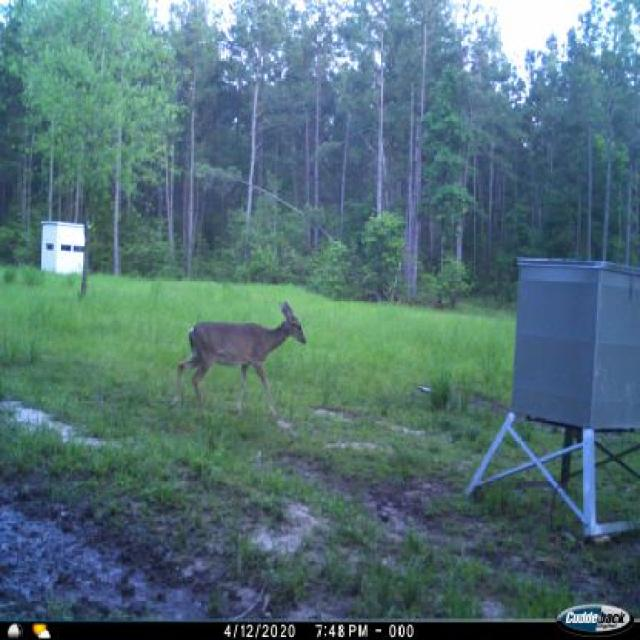Deer: (172, 297, 313, 428)
